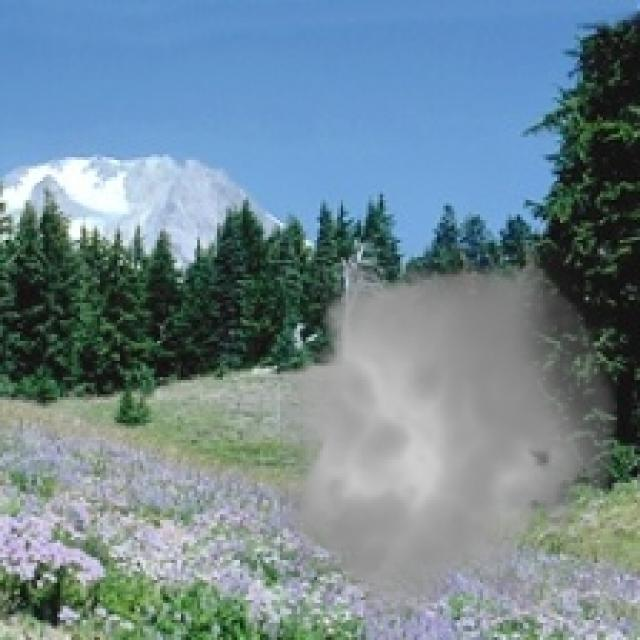smoke: (263, 243, 628, 634)
